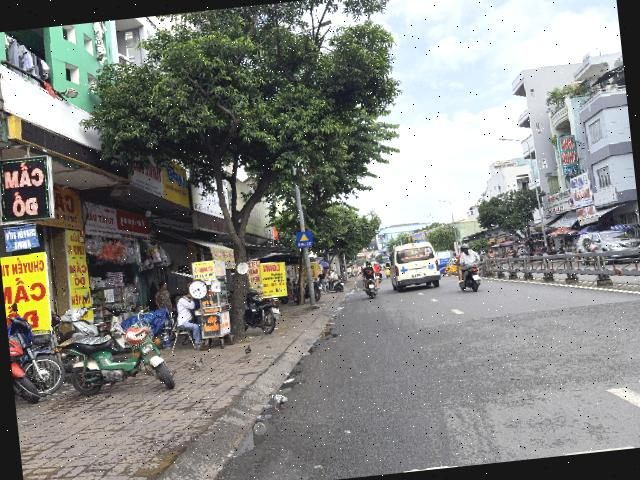khu-vuc-cho-phia-truoc: (295, 230, 313, 248)
